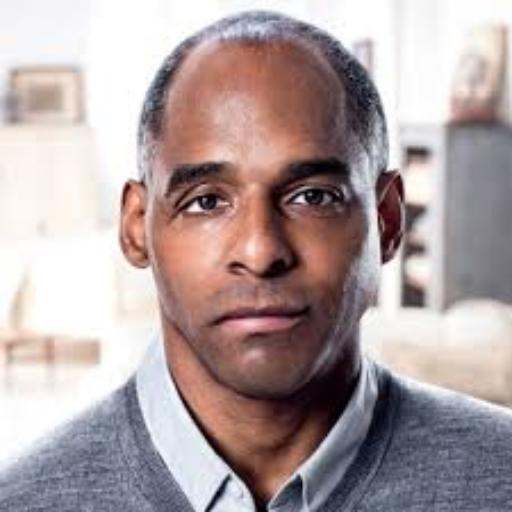left_eye: (285, 186, 346, 211)
left_lip_corner: (295, 302, 315, 329)
right_eye: (178, 190, 233, 217)
right_lip_corner: (206, 313, 229, 333)
